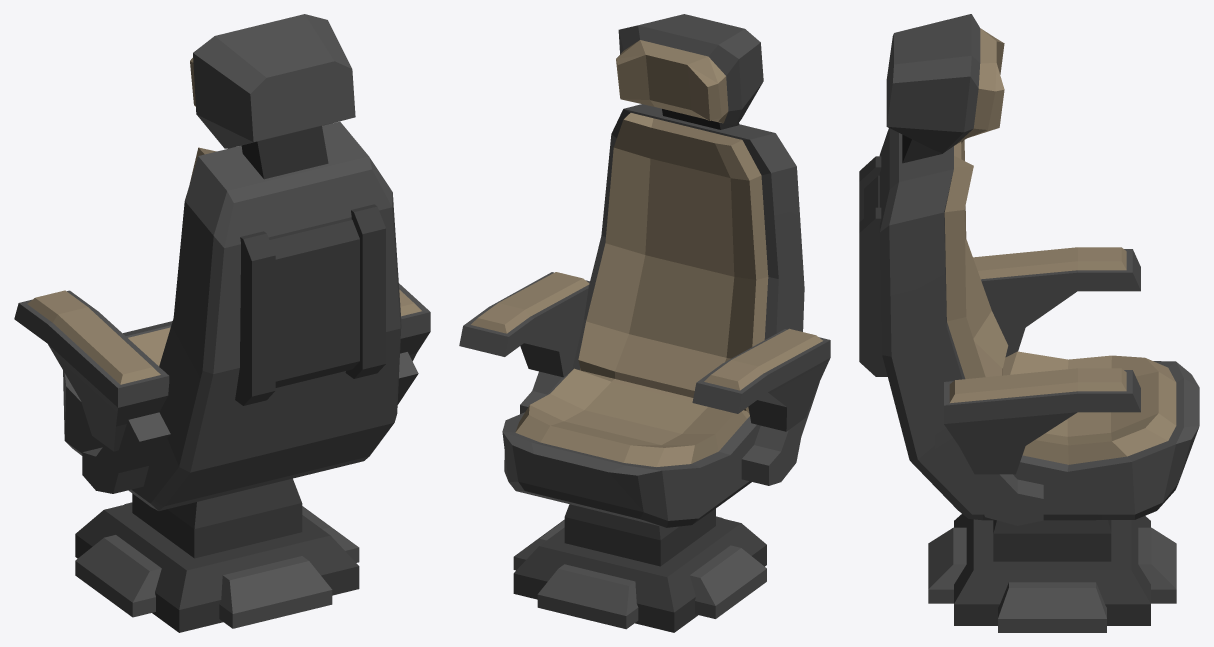
3 views of the same model, side by side, from view 1: azimuth 30°, elevation 25°; view 2: azimuth 150°, elevation 25°; view 3: azimuth 270°, elevation 25° (orthographic). The views are drawn at different scales.
Visible parts, largest first — view 1: model(Clone); view 2: model(Clone); view 3: model(Clone).
Part boxes in pixels (x1=…): model(Clone): x1=14, y1=14, x2=430, y2=632; model(Clone): x1=459, y1=14, x2=830, y2=632; model(Clone): x1=859, y1=14, x2=1199, y2=632.
Bounding box in the file's own units: 0.901 × 1.59 × 0.8951.
Materials: 1 (1 with a texture image).
